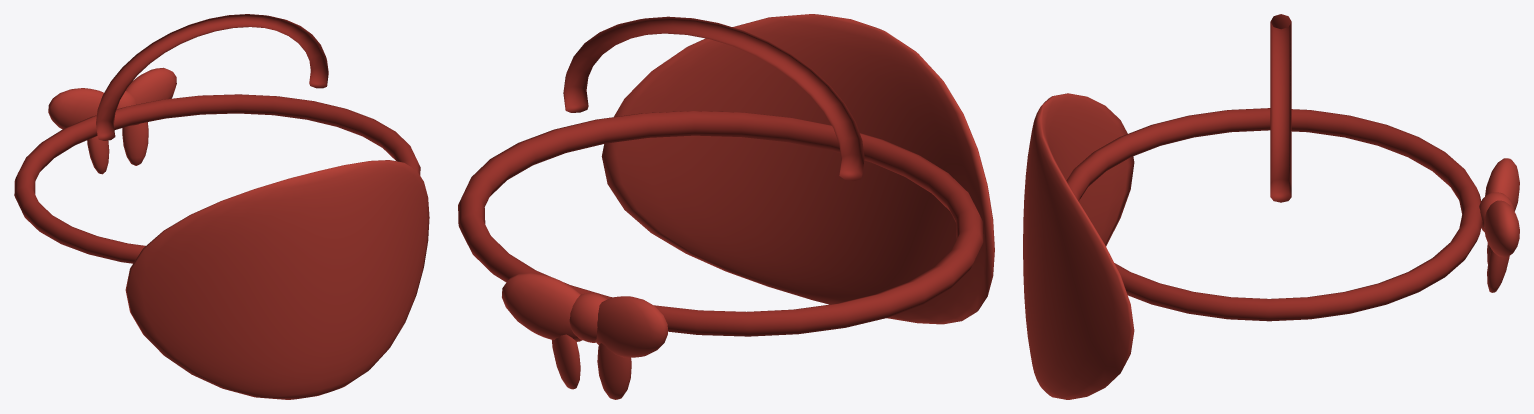
Rendered from red_apron.glb.
The picture shows the model from 3 angles, left to right: view 1: azimuth 30°, elevation 25°; view 2: azimuth 150°, elevation 25°; view 3: azimuth 270°, elevation 25°; orthographic projection. The views are drawn at different scales.
Visible parts, largest first — view 1: ApronShield, WaistBelt, NeckStrap, BackBowLoop_-1, BackBowLoop_1, BackBowTail_1, BackBowTail_-1; view 2: ApronShield, WaistBelt, NeckStrap, BackBowLoop_1, BackBowLoop_-1, BackBowTail_-1, BackKnot, BackBowTail_1; view 3: ApronShield, WaistBelt, NeckStrap, BackBowLoop_1, BackBowLoop_-1, BackBowTail_1.
Part boxes in pixels (bbox=[...]): ApronShield: bbox=[125, 160, 429, 399]; WaistBelt: bbox=[14, 94, 420, 263]; NeckStrap: bbox=[96, 14, 328, 140]; BackBowLoop_-1: bbox=[48, 88, 103, 129]; BackBowLoop_1: bbox=[126, 67, 176, 126]; BackBowTail_1: bbox=[122, 122, 148, 165]; BackBowTail_-1: bbox=[87, 136, 109, 174]; ApronShield: bbox=[601, 14, 994, 324]; WaistBelt: bbox=[458, 111, 983, 336]; NeckStrap: bbox=[563, 16, 864, 180]; BackBowLoop_1: bbox=[502, 273, 582, 341]; BackBowLoop_-1: bbox=[595, 296, 667, 357]; BackBowTail_-1: bbox=[597, 343, 631, 399]; BackKnot: bbox=[569, 293, 606, 342]; BackBowTail_1: bbox=[552, 334, 580, 389]; ApronShield: bbox=[1023, 93, 1134, 399]; WaistBelt: bbox=[1066, 108, 1482, 321]; NeckStrap: bbox=[1270, 14, 1291, 202]; BackBowLoop_1: bbox=[1484, 200, 1519, 257]; BackBowLoop_-1: bbox=[1485, 158, 1519, 211]; BackBowTail_1: bbox=[1487, 249, 1509, 292].
Bounding box in the file's own units: 0.8075 × 0.6377 × 0.8434.
